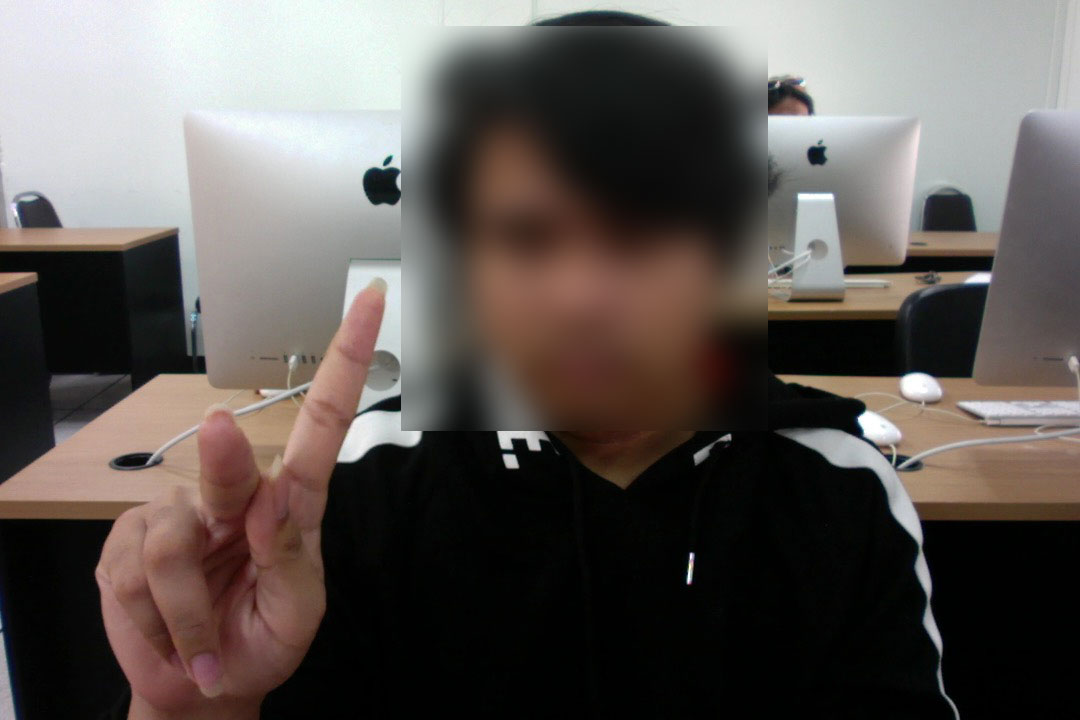ko: (71, 261, 392, 717)
